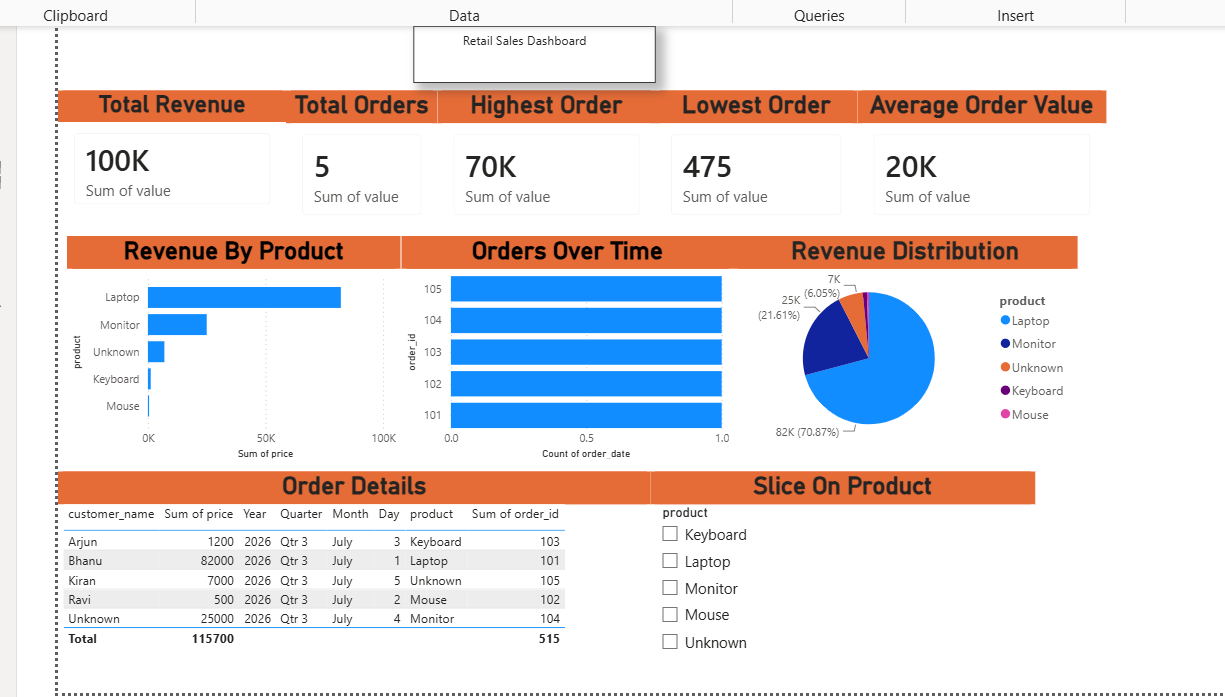

Layout of this report page (visuals, bound fields, positions):
{"tool":"powerbi","page":{"name":"Page 1","canvas":[1280,720],"ordinal":0},"visuals":[{"type":"cardVisual","title":"Total Revenue","fields":{"Data":["Sum(sales_summary.value)"]},"box":[0,70,246.7,140],"z":0},{"type":"cardVisual","title":"Total Orders","fields":{"Data":["Sum(sales_summary.value)"]},"box":[246.7,70,163.3,151.7],"z":1000},{"type":"cardVisual","title":"Highest Order","fields":{"Data":["Sum(sales_summary.value)"]},"box":[410,70,235,151.7],"z":2000},{"type":"cardVisual","title":"Lowest Order","fields":{"Data":["Sum(sales_summary.value)"]},"box":[645,70,218.3,151.7],"z":3000},{"type":"cardVisual","title":"Average Order Value","fields":{"Data":["Sum(sales_summary.value)"]},"box":[863.3,70,268.3,151.7],"z":4000},{"type":"clusteredBarChart","title":"Revenue By Product","fields":{"Category":["orders.product"],"Y":["Sum(orders.price)"]},"box":[10,226.7,360,245],"z":5000},{"type":"clusteredBarChart","title":"Orders Over Time","fields":{"Category":["orders.order_id"],"Y":["CountNonNull(orders.order_date)"]},"box":[370,226.7,358.3,245],"z":6000},{"type":"pieChart","title":"Revenue Distribution","fields":{"Category":["orders.product"],"Y":["Sum(orders.price)"]},"box":[728.3,226.7,371.7,233.3],"z":7000},{"type":"tableEx","title":"Order Details","fields":{"Values":["orders.customer_name","Sum(orders.price)","orders.order_date.Variation.Date Hierarchy.Year","orders.order_date.Variation.Date Hierarchy.Quarter","orders.order_date.Variation.Date Hierarchy.Month","orders.order_date.Variation.Date Hierarchy.Day","orders.product","Sum(orders.order_id)"]},"box":[0,481.7,640,238.3],"z":8000},{"type":"slicer","title":"Slice On Product","fields":{"Values":["orders.product"]},"box":[640,481.7,415,238.3],"z":9000},{"type":"textbox","box":[383.3,0,261,61],"z":10000}]}

Visuals, with their boxes on the page's 1280x720 design canvas (x1, y1, x2, y2). These are canvas units, not pixel positions in the 1225x697 screenshot, which may show the page scaled, cropped or inside an application window:
"Total Revenue" cardVisual: bbox=[0, 70, 247, 210]
"Total Orders" cardVisual: bbox=[247, 70, 410, 222]
"Highest Order" cardVisual: bbox=[410, 70, 645, 222]
"Lowest Order" cardVisual: bbox=[645, 70, 863, 222]
"Average Order Value" cardVisual: bbox=[863, 70, 1132, 222]
"Revenue By Product" clusteredBarChart: bbox=[10, 227, 370, 472]
"Orders Over Time" clusteredBarChart: bbox=[370, 227, 728, 472]
"Revenue Distribution" pieChart: bbox=[728, 227, 1100, 460]
"Order Details" tableEx: bbox=[0, 482, 640, 720]
"Slice On Product" slicer: bbox=[640, 482, 1055, 720]
textbox: bbox=[383, 0, 644, 61]
